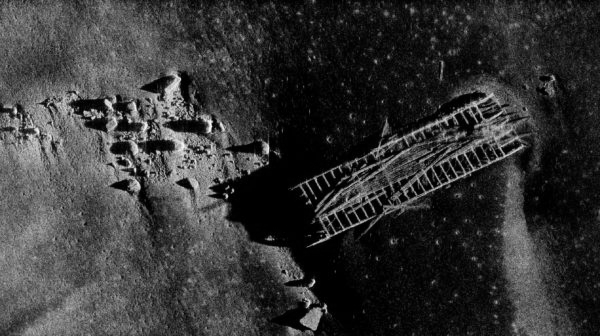ship: (300, 94, 524, 246)
